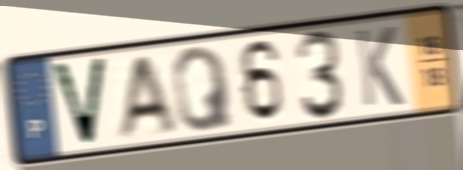3: (293, 27, 347, 123)
6: (238, 37, 285, 126)
A: (113, 51, 180, 144)
K: (352, 24, 406, 110)
Q: (169, 43, 237, 135)
V: (47, 54, 110, 150)
